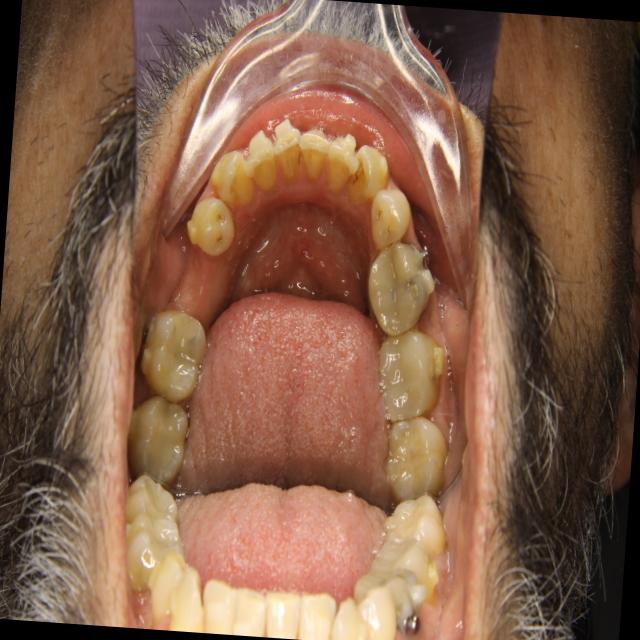tooth: (351, 226, 445, 343), (370, 308, 457, 434), (134, 290, 217, 409), (371, 396, 458, 506), (122, 377, 195, 490), (174, 182, 248, 264), (262, 101, 316, 194), (362, 174, 421, 257), (342, 129, 397, 217), (319, 119, 368, 207), (202, 145, 263, 214), (242, 115, 288, 202), (294, 111, 336, 197)
